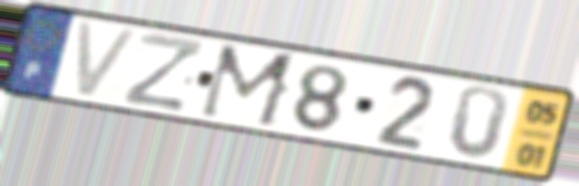0: (445, 84, 513, 163)
2: (373, 74, 437, 154)
8: (290, 63, 355, 134)
M: (194, 41, 302, 132)
V: (73, 18, 145, 102)
Z: (119, 28, 208, 114)
